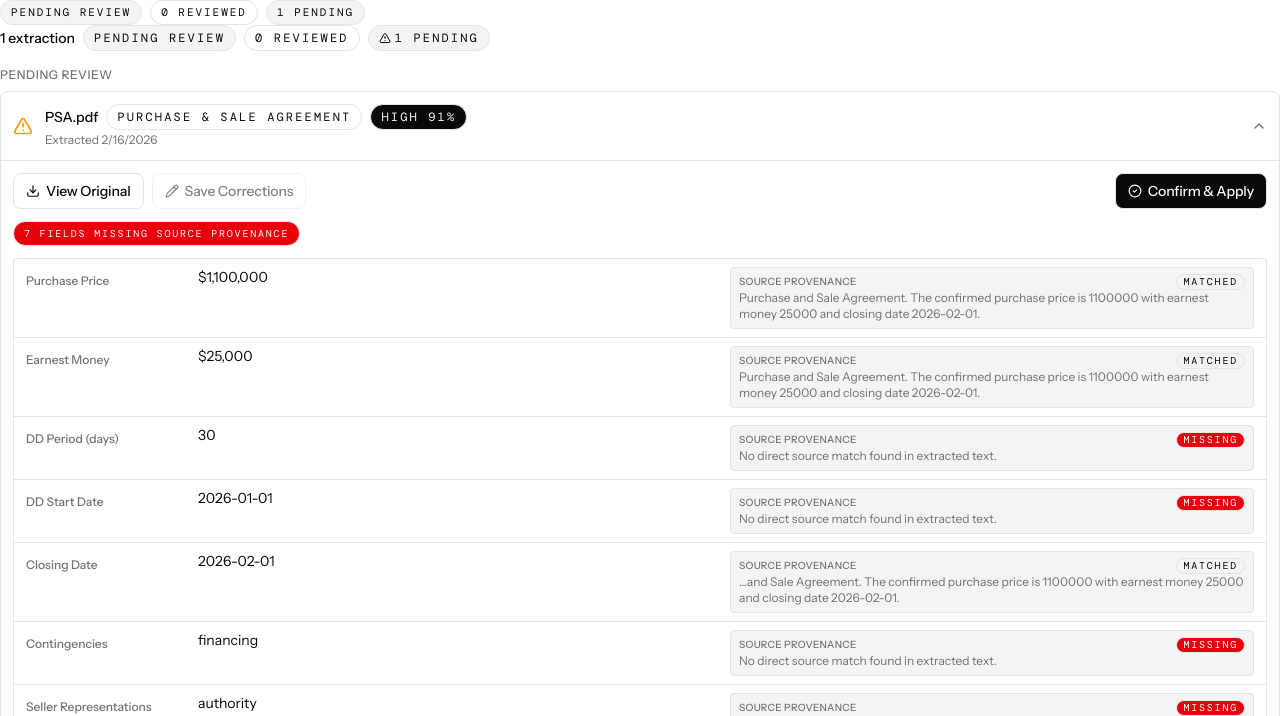
Scenario: DocumentExtractionReview D3 flows › propagates reviewed/pending status across extraction surfaces after confirm
This screenshot has width=1280, height=716.
Expected: the 1st text "Pending Review" is shown, [0, 0, 142, 25]
Expected: the text "1 pending" is shown, [266, 0, 365, 25]
Click the button "Confirm & Apply".
click(1191, 191)  # box [1115, 173, 1267, 209]
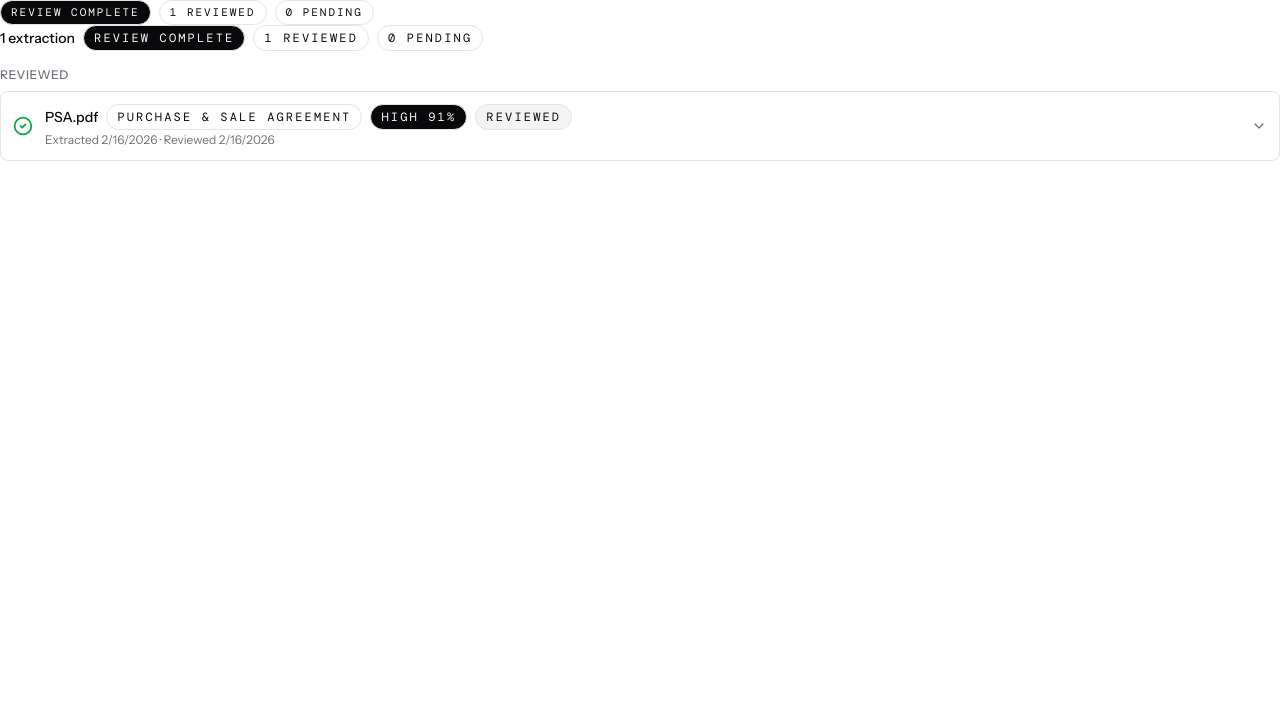
Now the 1st text "Review Complete" is shown, box [0, 0, 151, 25]
Now the 1st text "1 reviewed" is shown, box [159, 0, 266, 25]
Now the 1st text "0 pending" is shown, box [274, 0, 374, 25]
